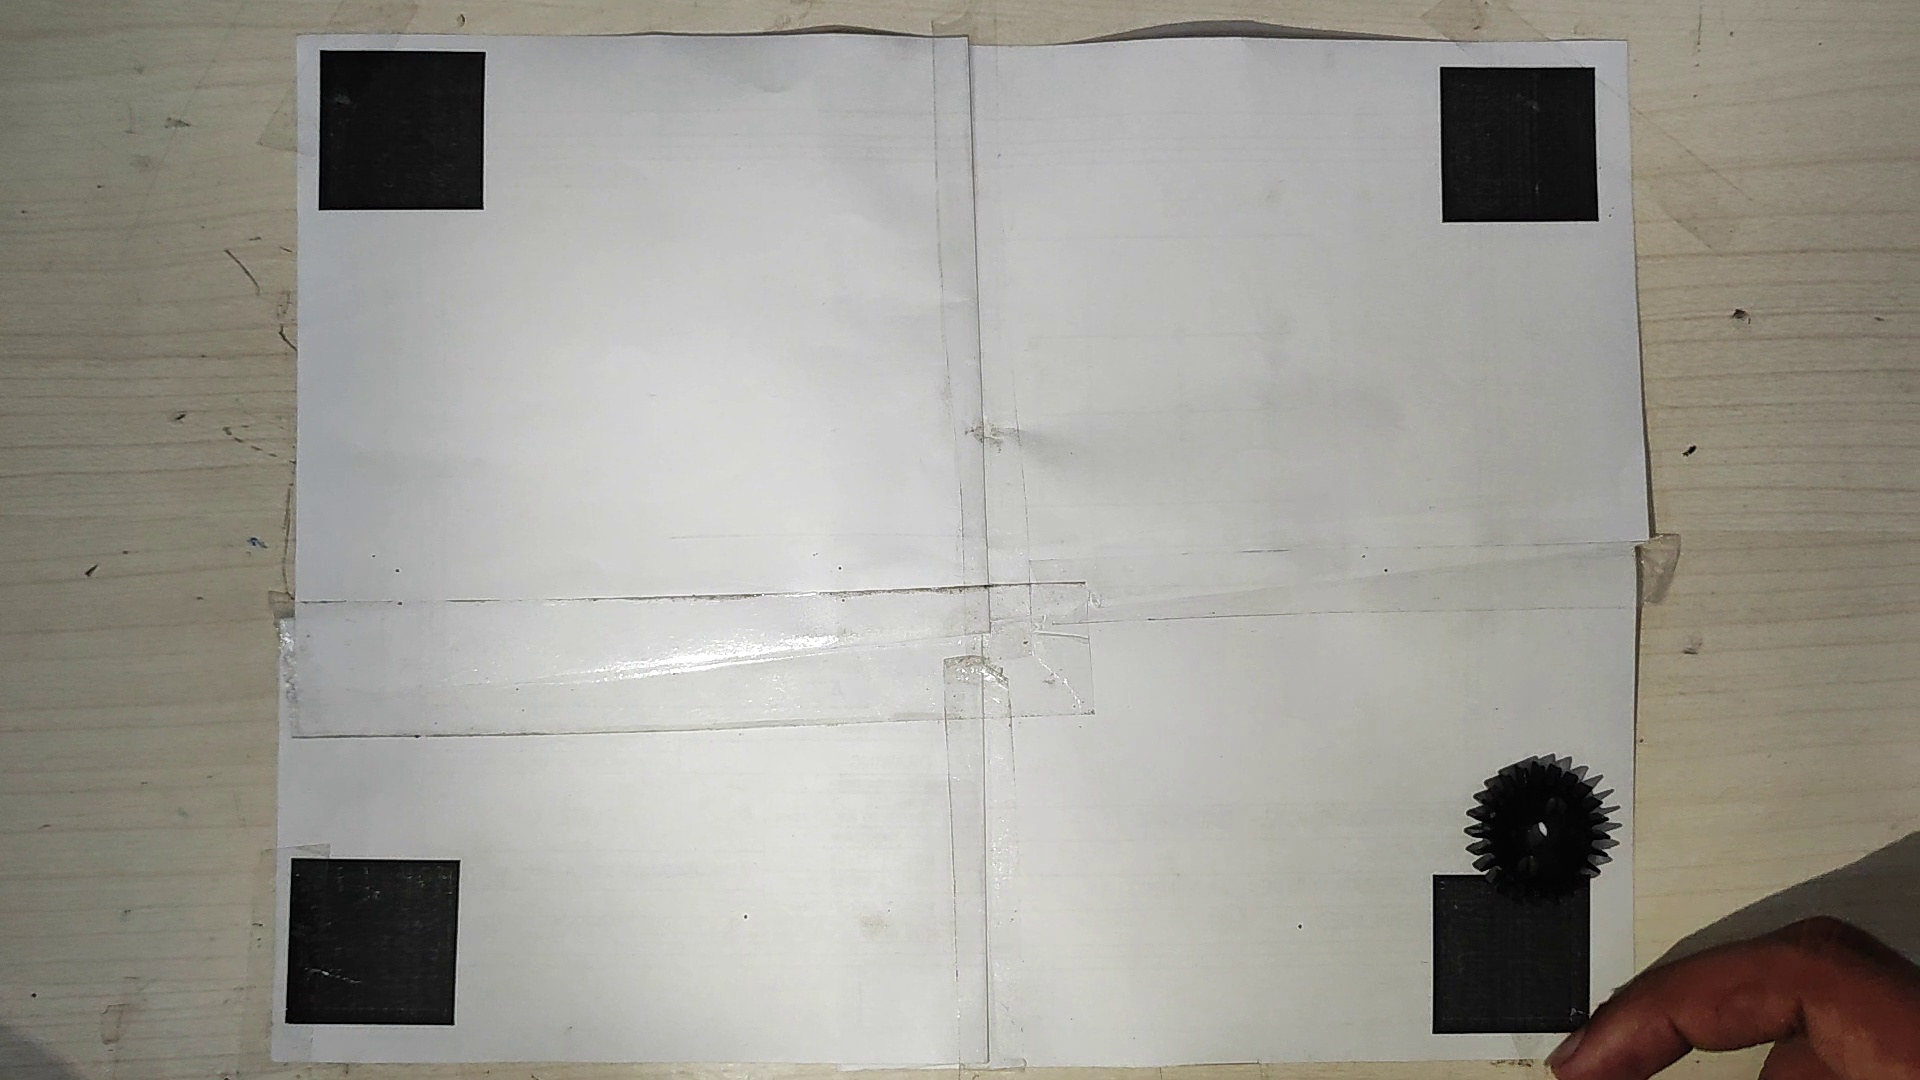Gear: (1464, 752, 1614, 900)
